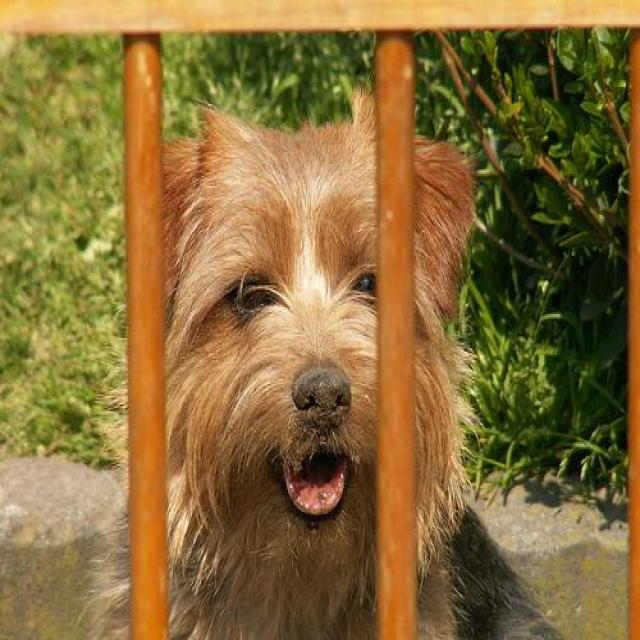happy: (142, 92, 484, 616)
